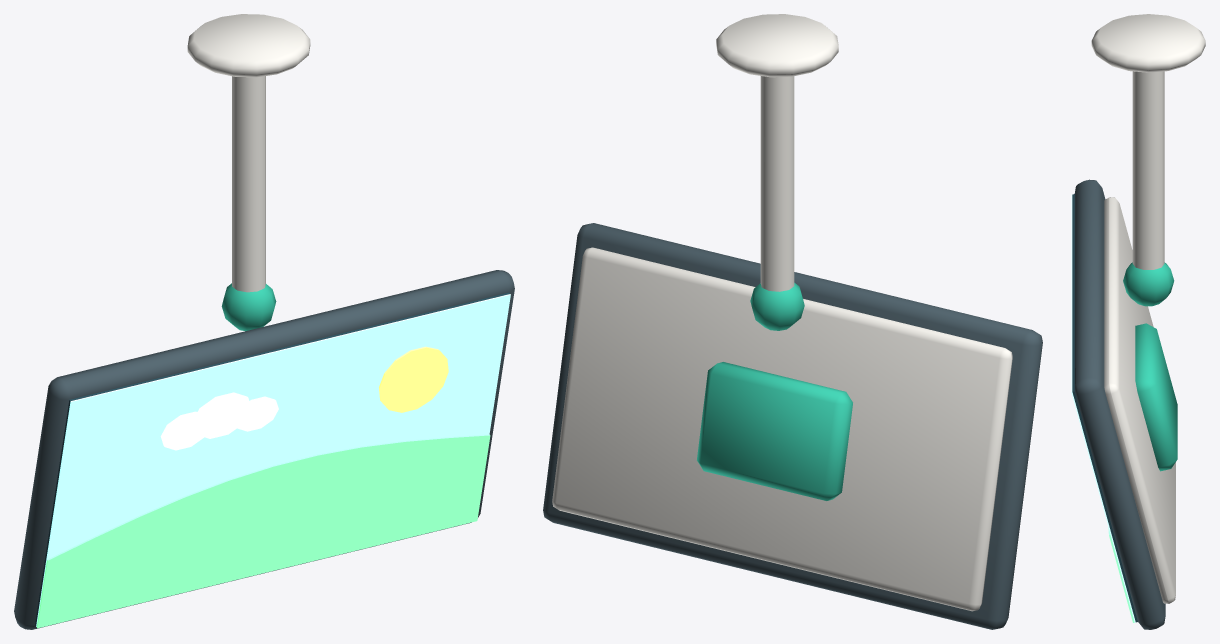
3 views of the same model, side by side, from view 1: azimuth 30°, elevation 25°; view 2: azimuth 150°, elevation 25°; view 3: azimuth 270°, elevation 25° (orthographic). The views are drawn at different scales.
Visible parts, largest first — view 1: OpTv; view 2: OpTv; view 3: OpTv.
Part boxes in pixels (box(x1,y1,x2,y2)): OpTv: box(14, 14, 514, 629); OpTv: box(543, 14, 1042, 629); OpTv: box(1071, 14, 1205, 629).
Bounding box in the file's own units: 0.86 × 0.9588 × 0.2357.
